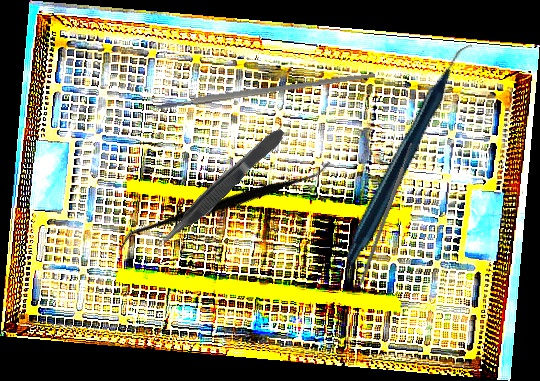Handpiece: (286, 43, 536, 266)
Scalpel Handle: (155, 70, 376, 111), (357, 142, 415, 288)
Spatula Surgical: (117, 91, 334, 320)
Tissue Forceps: (153, 124, 291, 251)
